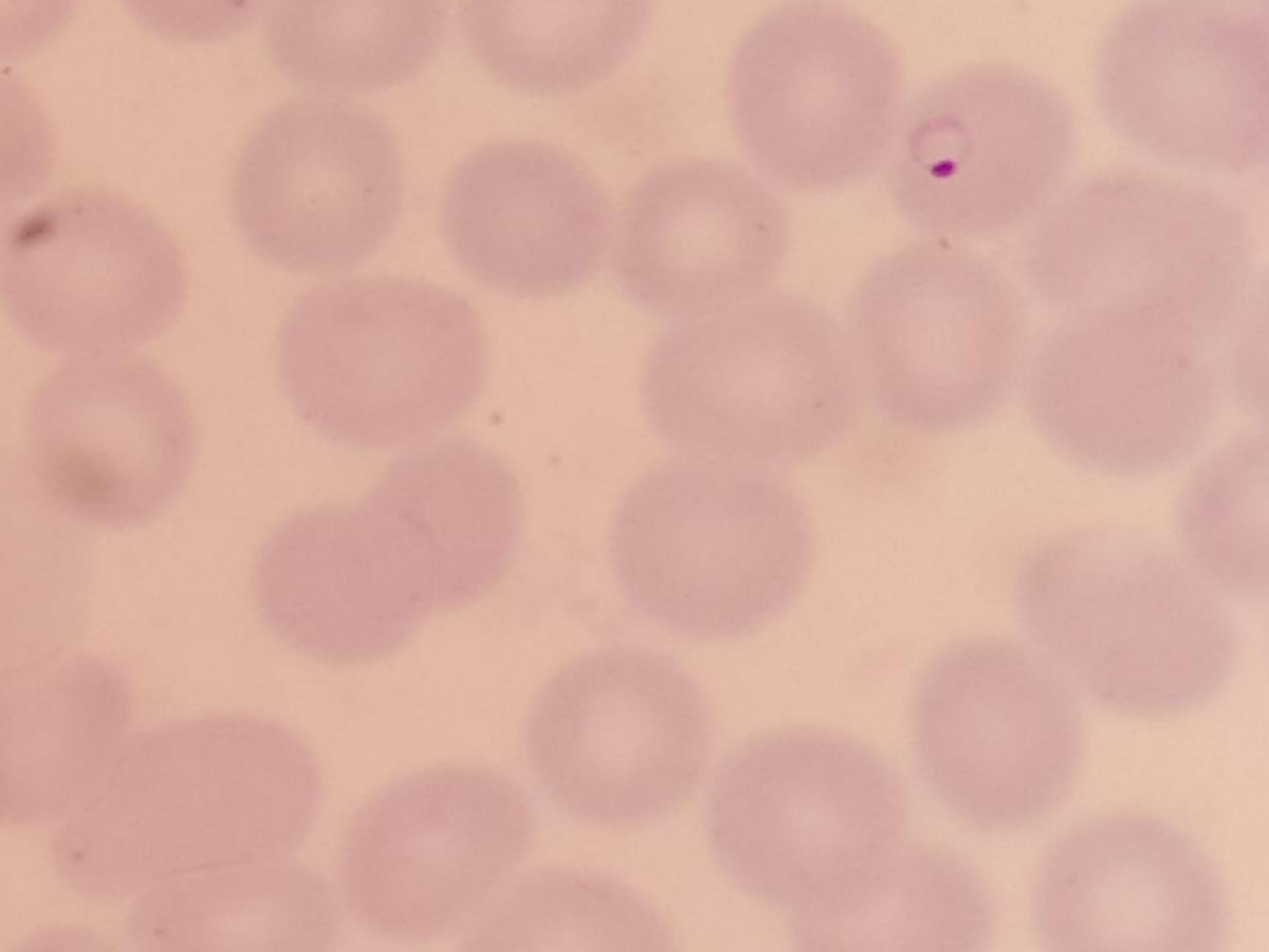Infected: (886, 61, 1085, 237)
Uninfected: (41, 717, 319, 896), (1016, 517, 1241, 721), (843, 240, 1026, 437), (905, 635, 1081, 839), (279, 281, 482, 456), (699, 719, 895, 898), (529, 649, 716, 829), (615, 469, 812, 637), (634, 316, 857, 460), (342, 762, 535, 928), (1024, 306, 1207, 479), (231, 101, 404, 279), (610, 157, 794, 322), (253, 497, 431, 666), (25, 350, 200, 521), (13, 185, 194, 349), (1100, 3, 1269, 176), (727, 22, 898, 191), (1031, 179, 1229, 322), (0, 626, 131, 831), (444, 141, 611, 299), (372, 440, 521, 616), (1046, 821, 1220, 952), (790, 839, 990, 952)
